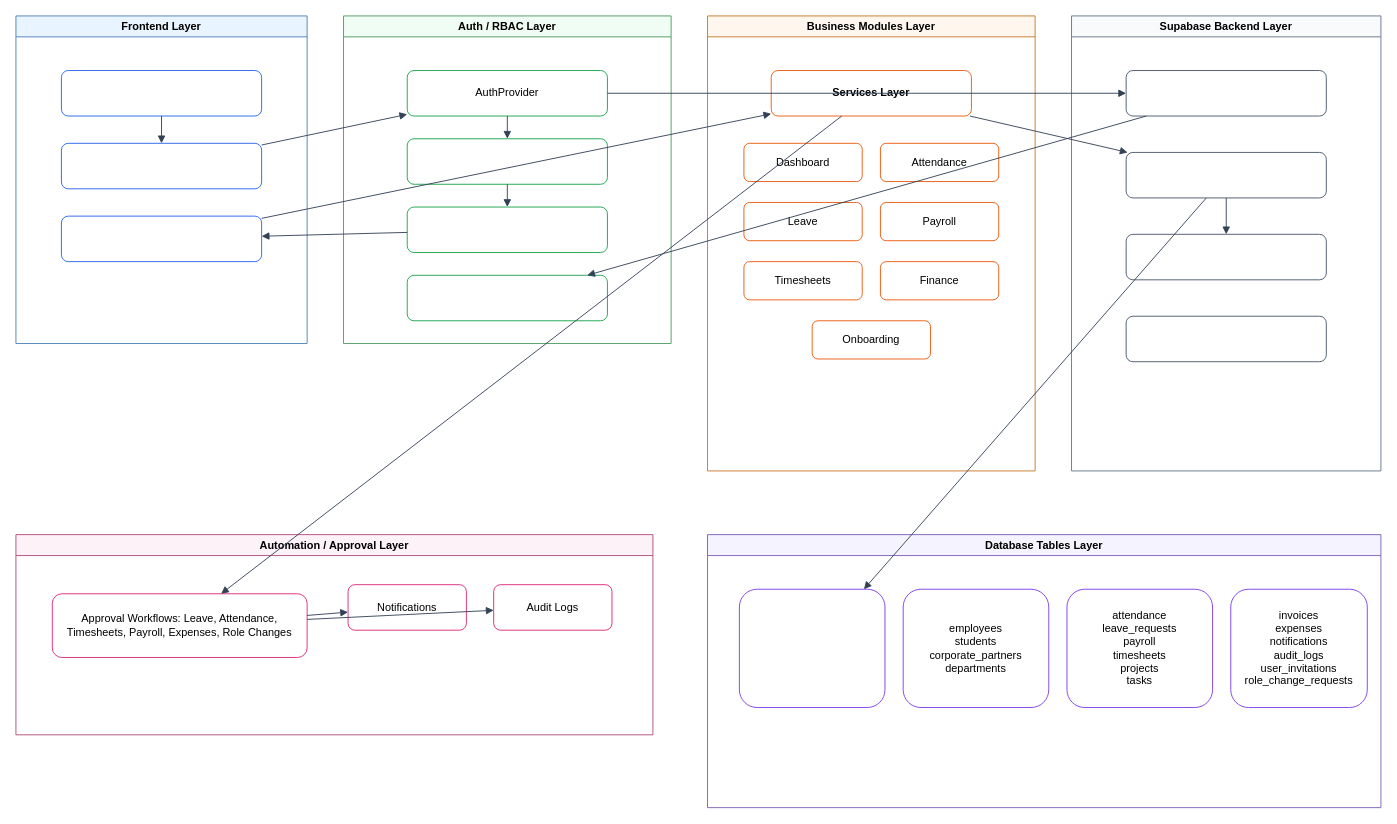
Some shapes in this 1397 by 824 pixel diagram are drawn without their labels. The centre of each missing label's shape, as x and y in pixels:
auth.users profiles roles permissions role_permissions: [811,648]
AuthorizedRoute: [506,229]
Browser / User: [161,93]
Feature Pages and Sidebar: [161,238]
profiles / roles / permissions: [506,297]
ProtectedRoute: [506,161]
React/Vite AntOS SPA: [161,165]
RLS Policies: [1225,256]
schema.sql: [1225,338]
Supabase Auth: [1225,93]
Supabase PostgreSQL: [1225,175]
